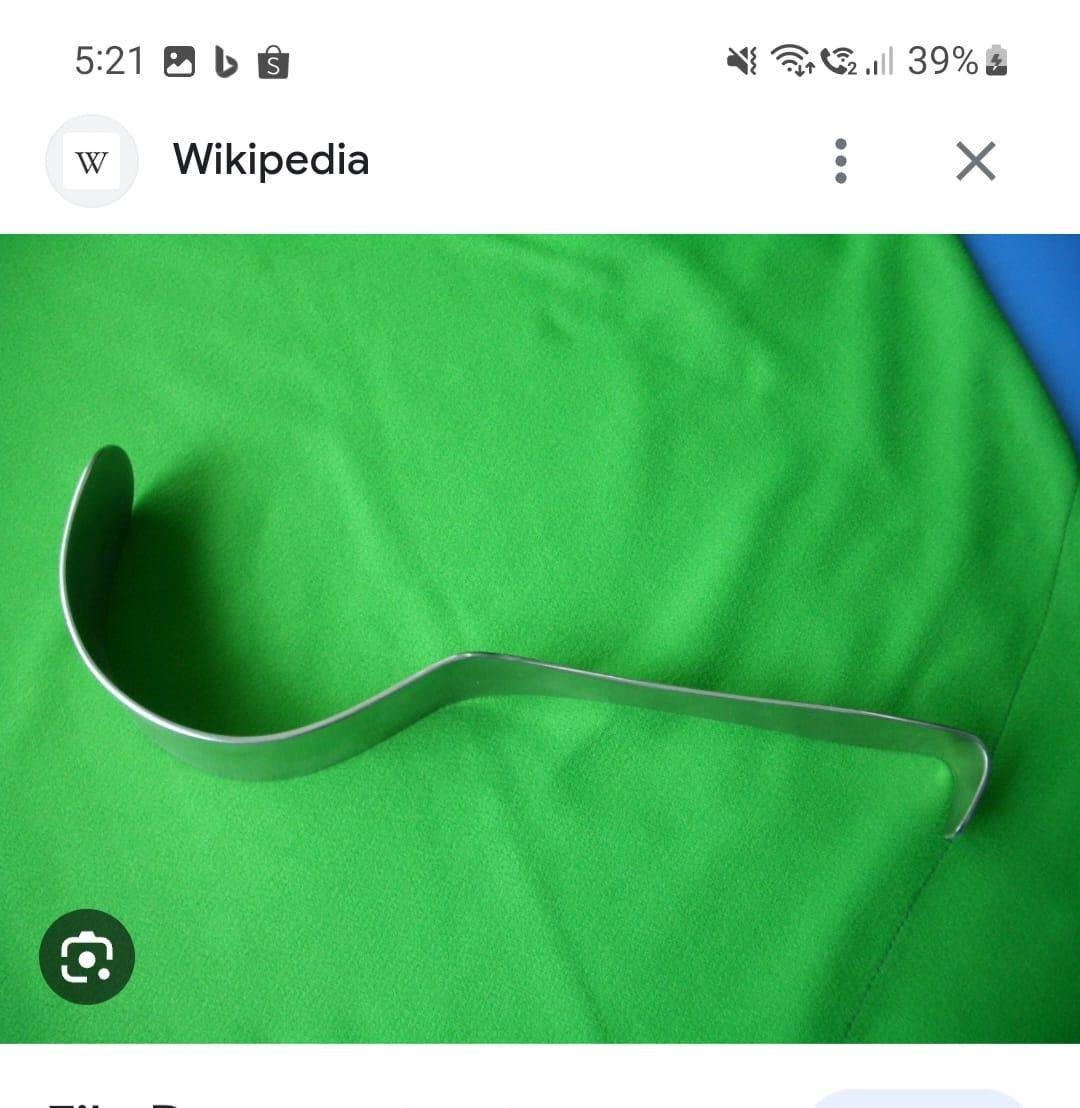Deaver Retractor: (45, 430, 997, 843)
